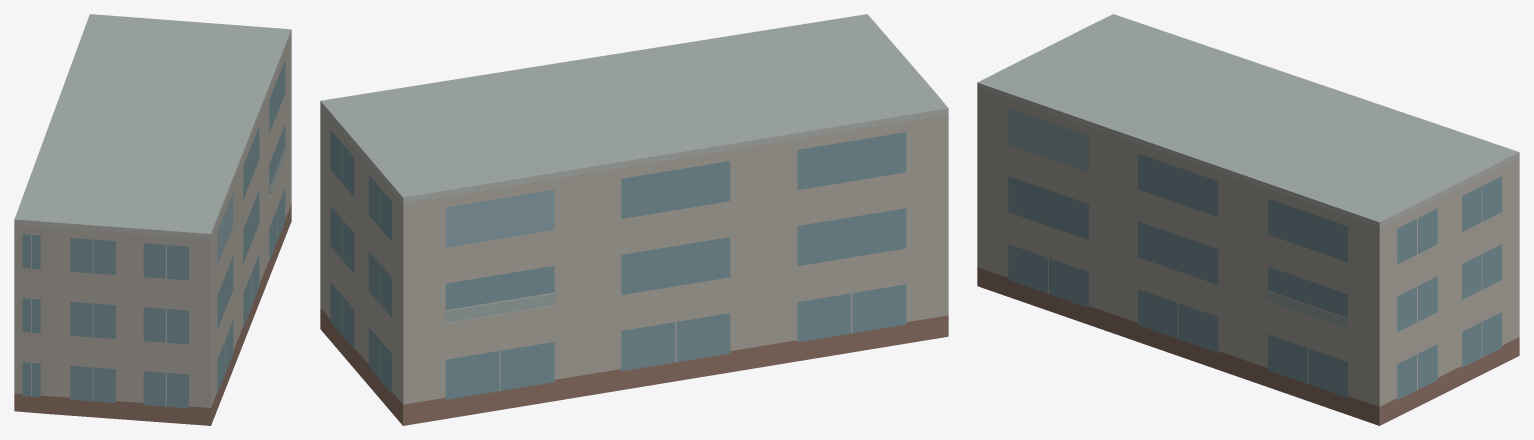
The model's file is survey-upis-32677948.glb.
3 views of the same model, side by side, from view 1: azimuth 30°, elevation 25°; view 2: azimuth 150°, elevation 25°; view 3: azimuth 270°, elevation 25° (orthographic). The views are drawn at different scales.
Visible parts, largest first — view 1: survey-upis-32677948.tmp; view 2: survey-upis-32677948.tmp; view 3: survey-upis-32677948.tmp.
Part boxes in pixels (x1,y1,x2,y2): survey-upis-32677948.tmp: (14, 14, 291, 425); survey-upis-32677948.tmp: (320, 14, 948, 425); survey-upis-32677948.tmp: (977, 14, 1519, 425).
Size of the model in its own units: 20.1 by 9.15 by 22.11.
